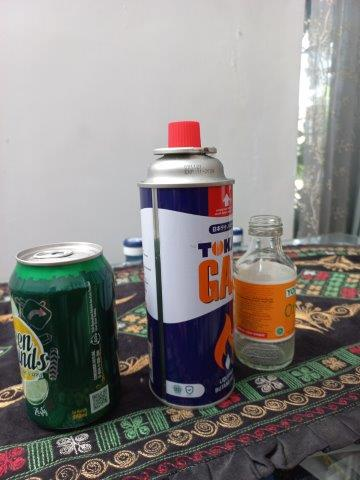botolkaca: (234, 217, 298, 372)
kaleng: (139, 118, 234, 407), (10, 242, 121, 430)
